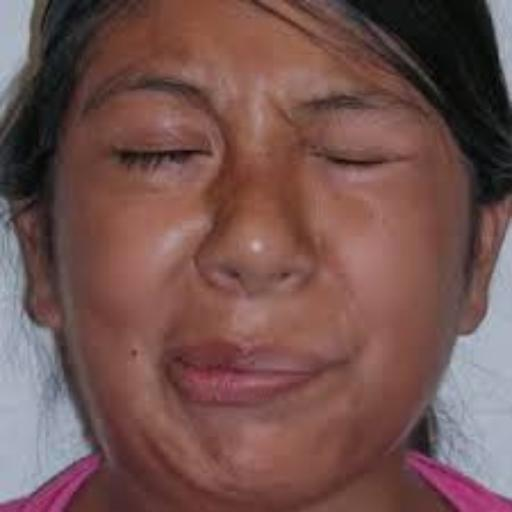left_eye: (307, 136, 415, 183)
left_lip_corner: (322, 347, 362, 377)
right_eye: (111, 138, 210, 174)
right_lip_corner: (148, 345, 188, 377)
